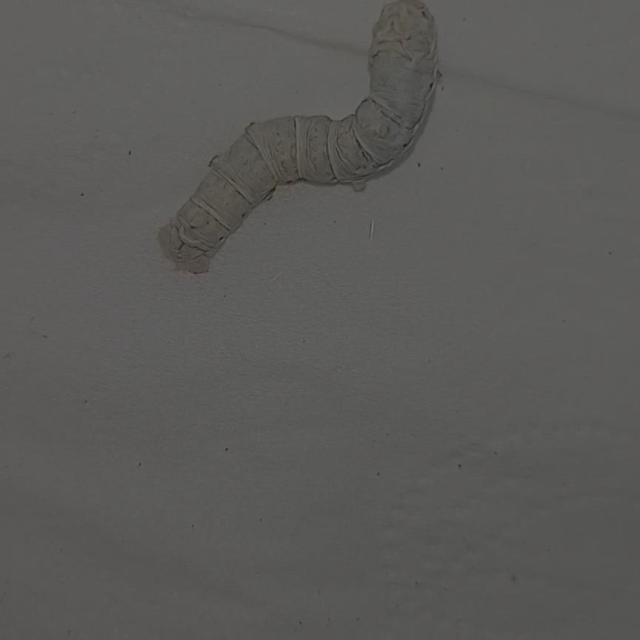Healthy: (135, 0, 464, 292)
